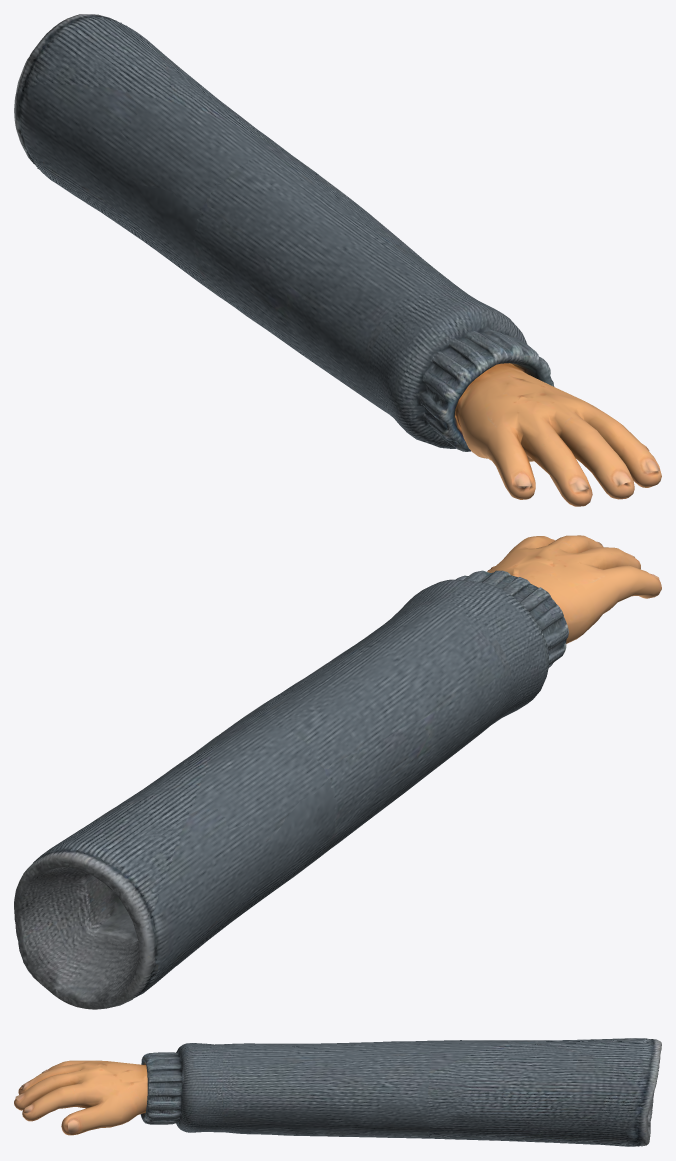
Rendered from hand.low.glb.
3 renders of one model, top to bottom at view 1: azimuth 30°, elevation 25°; view 2: azimuth 150°, elevation 25°; view 3: azimuth 270°, elevation 25°, orthographic. The views are drawn at different scales.
Parts seen in each view (by area): view 1: tripo_node_8442767b-0a98-456e-8964-27694c30c98e; view 2: tripo_node_8442767b-0a98-456e-8964-27694c30c98e; view 3: tripo_node_8442767b-0a98-456e-8964-27694c30c98e.
Part boxes in pixels (x1,y1,x2,y2): tripo_node_8442767b-0a98-456e-8964-27694c30c98e: [14, 14, 661, 506]; tripo_node_8442767b-0a98-456e-8964-27694c30c98e: [14, 535, 661, 1009]; tripo_node_8442767b-0a98-456e-8964-27694c30c98e: [14, 1038, 661, 1146].
Size of the model in its own units: 0.1327 by 0.1298 by 0.7759.
1 material, 1 textured.
